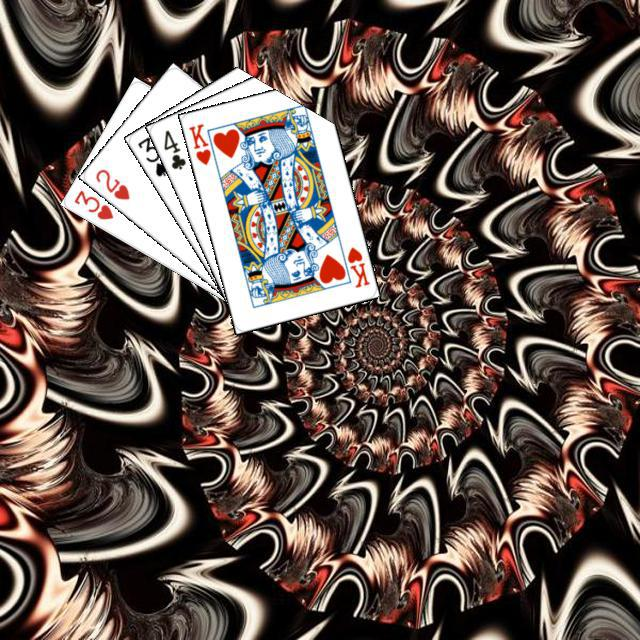2h: (90, 164, 131, 202)
3h: (69, 185, 115, 222)
3s: (133, 132, 170, 179)
4c: (159, 125, 188, 172)
Kh: (184, 119, 219, 168), (342, 242, 371, 289)
